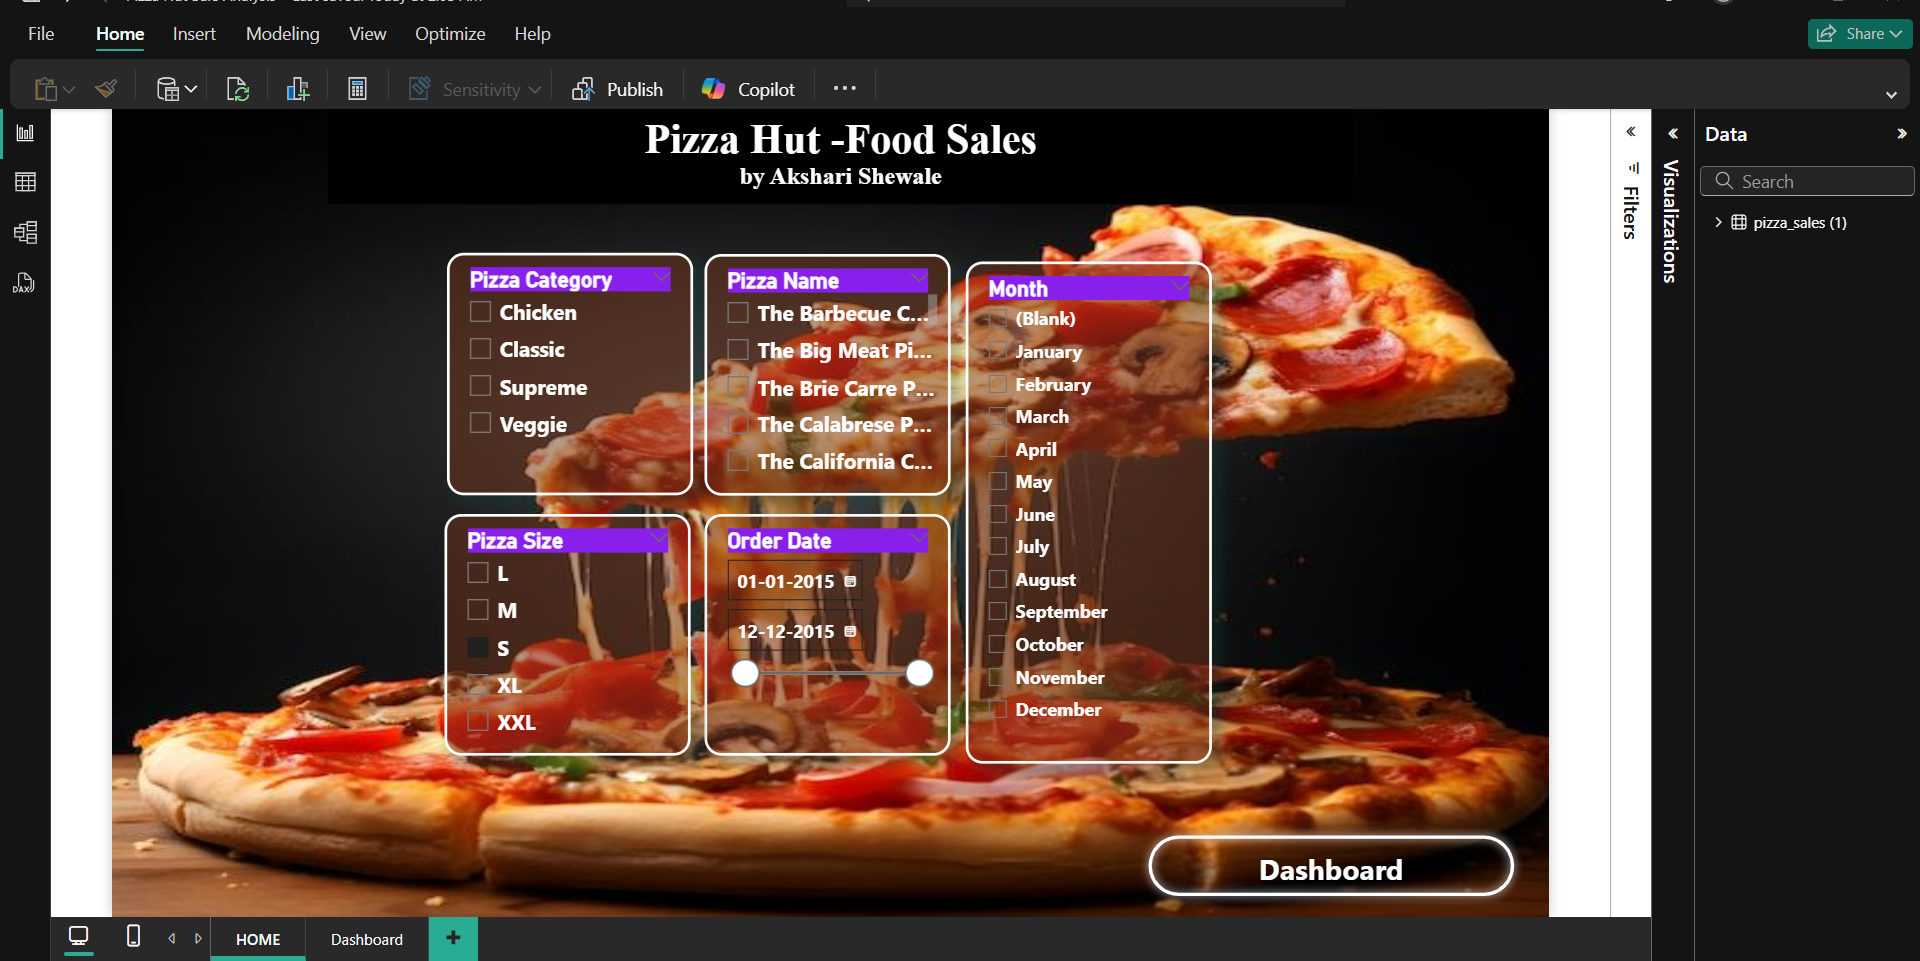

What the dashboard file says about the page in this screenshot:
{"tool":"powerbi","page":{"name":"HOME","canvas":[1280,720],"ordinal":0},"visuals":[{"type":"textbox","box":[192.1,0,912.5,85.1],"z":0},{"type":"slicer","fields":{"Values":["pizza_sales (1).pizza_category"]},"box":[298.7,127.9,219.6,216.2],"z":1000,"group":"g1"},{"type":"actionButton","box":[915.3,639.5,341.7,70],"z":1000},{"type":"group","id":"g1","title":"Group 1","box":[296.5,127.9,683.7,454.7],"z":2000},{"type":"slicer","fields":{"Values":["pizza_sales (1).order_date"]},"box":[528.4,360.9,219.6,215.4],"z":2000,"group":"g1"},{"type":"slicer","fields":{"Values":["pizza_sales (1).pizza_name"]},"box":[528.4,128.9,219.6,215.4],"z":3000,"group":"g1"},{"type":"slicer","fields":{"Values":["pizza_sales (1).order_date.Variation.Date Hierarchy.Month"]},"box":[761.1,135.5,219.6,447.3],"z":4000,"group":"g1"},{"type":"slicer","fields":{"Values":["pizza_sales (1).pizza_size"]},"box":[296.5,360.9,219.6,215.4],"z":5000,"group":"g1"}]}

Visuals, with their boxes on the page's 1280x720 design canvas (x1, y1, x2, y2). These are canvas units, not pixel positions in the 1920x961 screenshot, which may show the page scaled, cropped or inside an application window:
textbox: bbox(192, 0, 1105, 85)
slicer - pizza_sales (1).pizza_category: bbox(299, 128, 518, 344)
actionButton: bbox(915, 640, 1257, 710)
"Group 1" group: bbox(296, 128, 980, 583)
slicer - pizza_sales (1).order_date: bbox(528, 361, 748, 576)
slicer - pizza_sales (1).pizza_name: bbox(528, 129, 748, 344)
slicer - pizza_sales (1).order_date.Variation.Date Hierarchy.Month: bbox(761, 136, 981, 583)
slicer - pizza_sales (1).pizza_size: bbox(296, 361, 516, 576)
